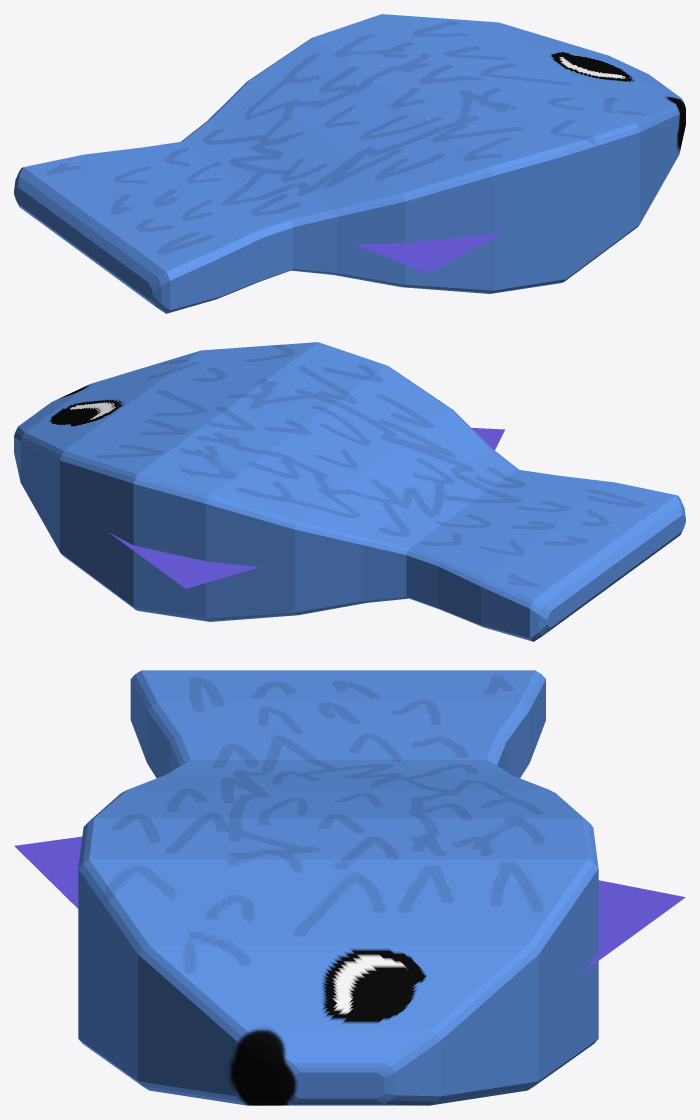
File: fish.glb
3 views of the same model, one above another, from view 1: azimuth 30°, elevation 25°; view 2: azimuth 150°, elevation 25°; view 3: azimuth 270°, elevation 25° (orthographic). The views are drawn at different scales.
Visible parts, largest first — view 1: fish, Bottomfin; view 2: fish, Topfin; view 3: fish, Topfin, Bottomfin.
Part boxes in pixels (x1,y1,x2,y2): fish: [14, 14, 685, 313]; Bottomfin: [354, 231, 504, 273]; fish: [14, 342, 685, 641]; Topfin: [109, 532, 258, 588]; fish: [78, 670, 598, 1105]; Topfin: [578, 880, 685, 975]; Bottomfin: [14, 836, 82, 908].
Size of the model in its own units: 1.79 by 0.3989 by 1.29.
Materials: 2 (1 with a texture image).
